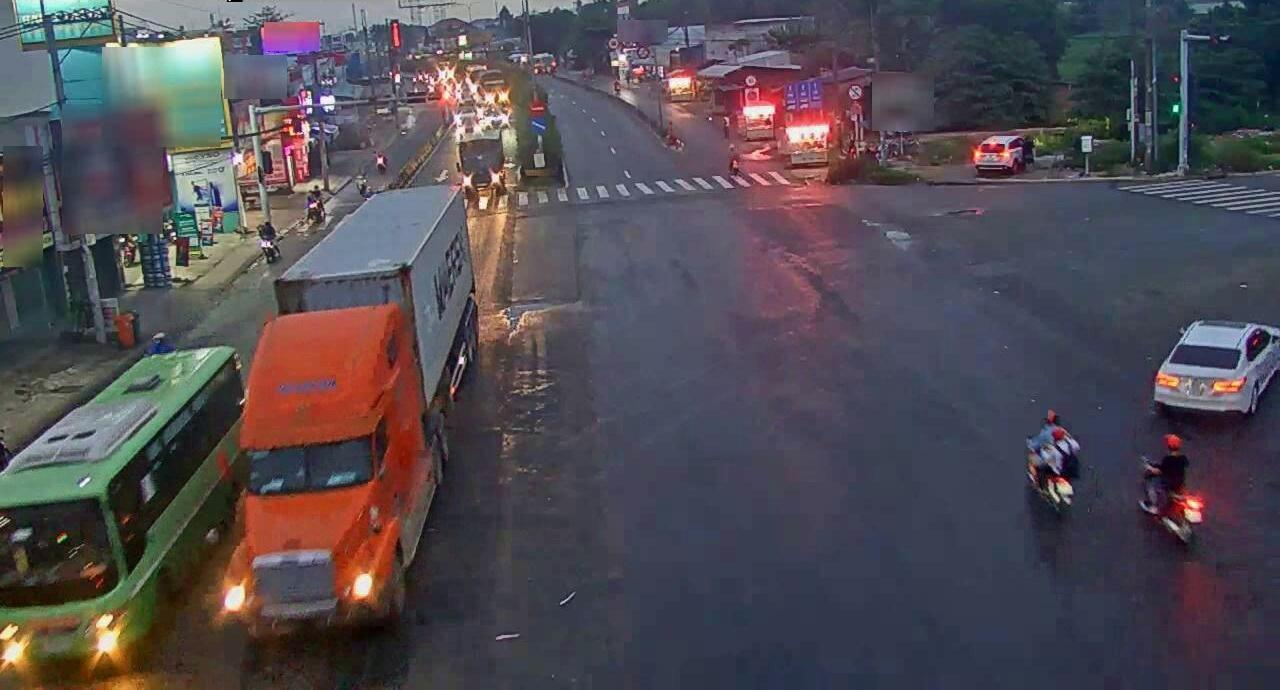xe buyt: (0, 338, 248, 677)
xe container: (230, 186, 485, 623)
xe may: (1021, 407, 1079, 515)
